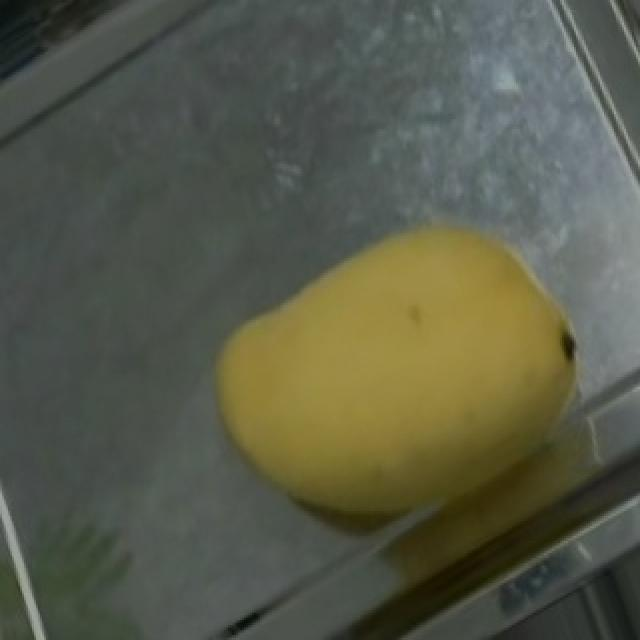fruit: (206, 171, 640, 608)
